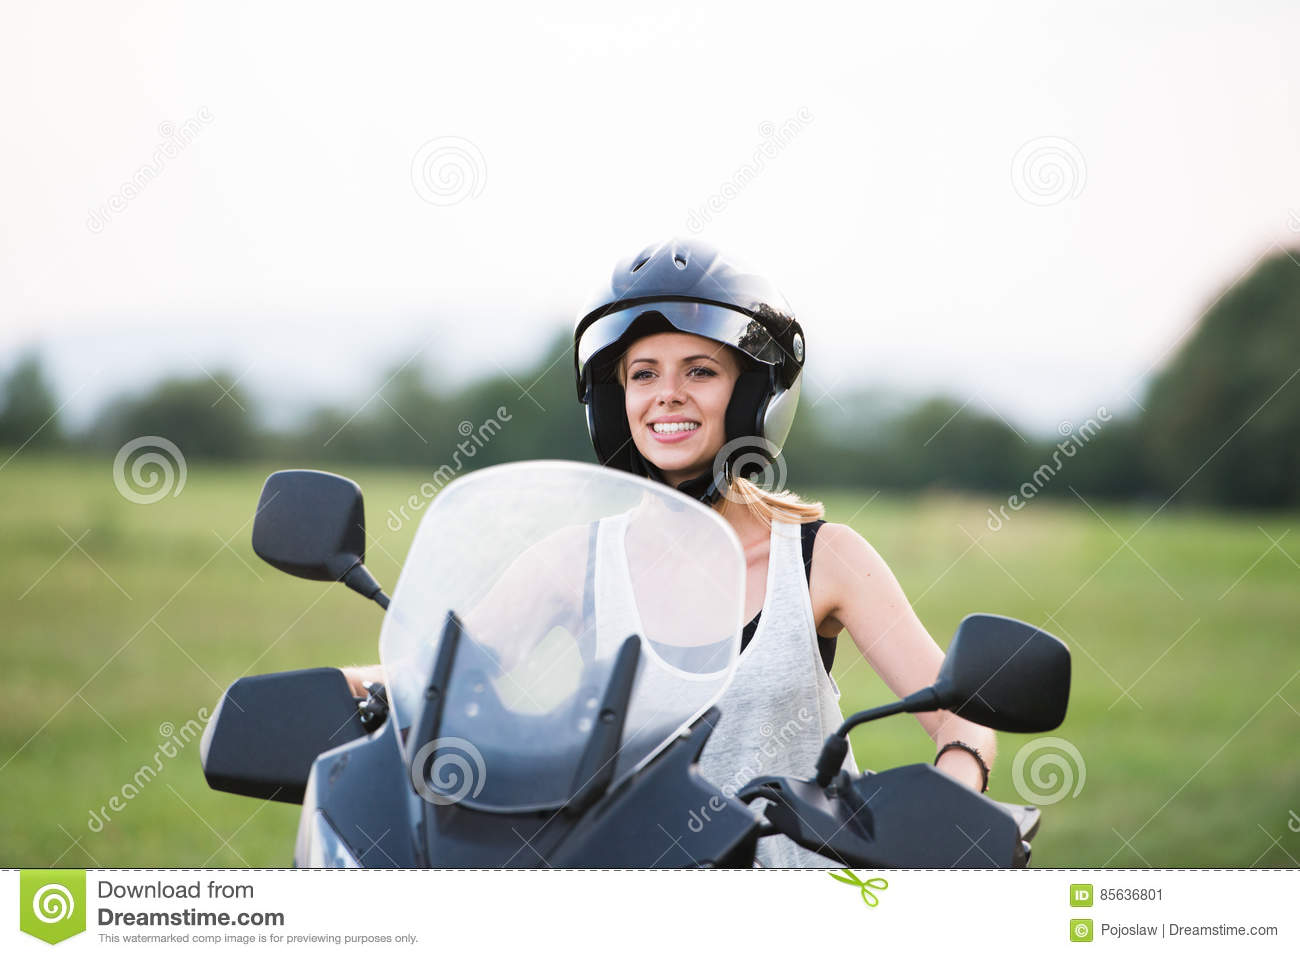helmet: (564, 230, 805, 463)
